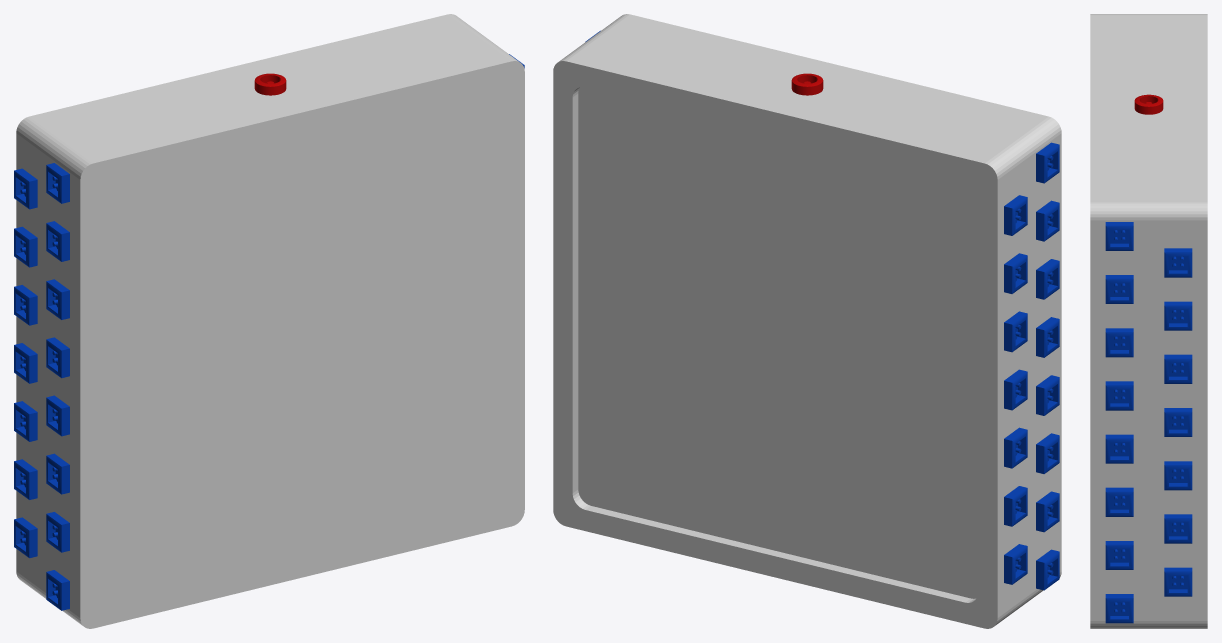
The model's file is Router.gltf.
3 renders of one model, left to right at view 1: azimuth 30°, elevation 25°; view 2: azimuth 150°, elevation 25°; view 3: azimuth 270°, elevation 25°, orthographic. The views are drawn at different scales.
Parts seen in each view (by area): view 1: Cube; view 2: Cube; view 3: Cube.
Boxes of the visible parts, left/top/right/bottom form: Cube: left=14, top=14, right=524, bottom=628; Cube: left=553, top=14, right=1061, bottom=628; Cube: left=1090, top=14, right=1207, bottom=628.
Size of the model in its own units: 1.04 by 1.02 by 0.25.
